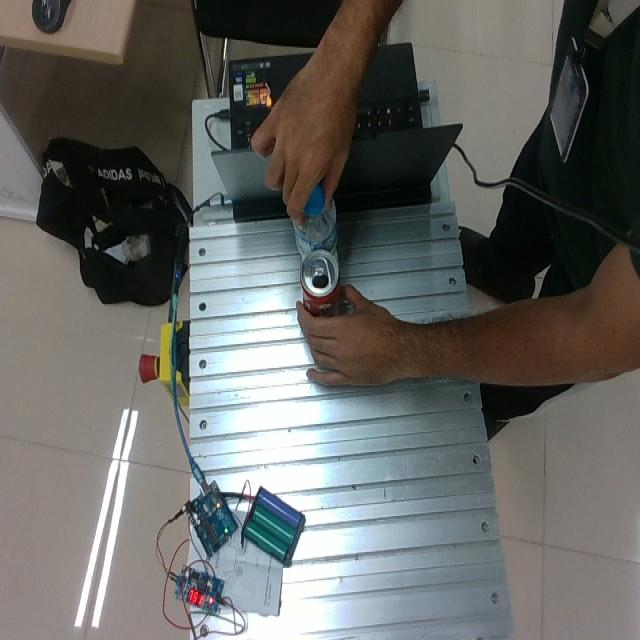coca: (299, 249, 340, 316)
lavie: (293, 185, 339, 271)
